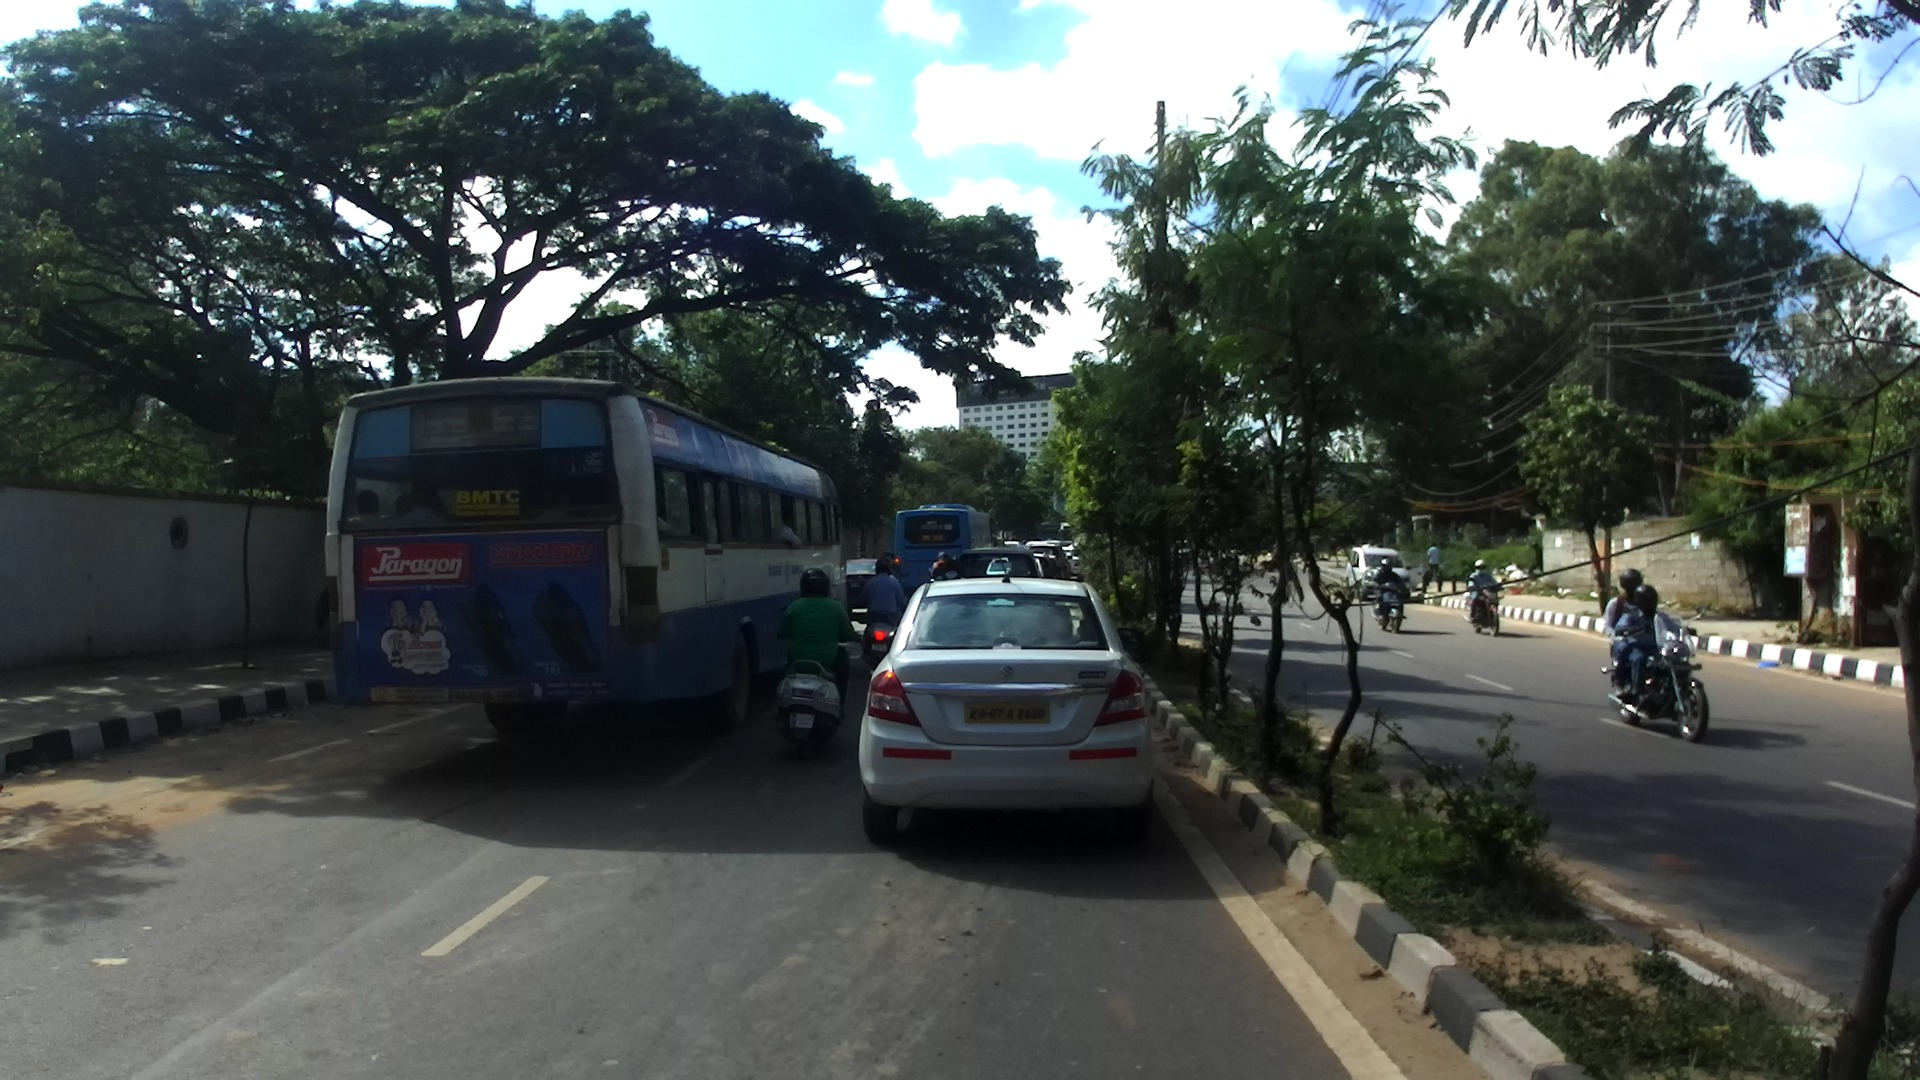bus: (322, 375, 847, 734), (895, 501, 995, 600), (1037, 520, 1060, 540), (1059, 520, 1076, 542)
car: (856, 553, 1159, 842), (1346, 543, 1412, 601), (953, 547, 1043, 580), (841, 555, 888, 615), (1025, 541, 1072, 582), (1061, 546, 1086, 583), (1031, 552, 1056, 580), (1005, 539, 1025, 549), (1062, 539, 1076, 548), (1026, 537, 1045, 542)
motorcycle: (1599, 604, 1710, 744), (773, 620, 865, 756), (860, 599, 911, 672), (1466, 576, 1510, 638), (1371, 577, 1408, 635)
person: (1425, 539, 1443, 583)
rider: (775, 566, 858, 717), (1614, 583, 1697, 701), (1601, 567, 1648, 701), (856, 556, 909, 663), (1371, 555, 1412, 615), (1466, 558, 1501, 619), (933, 555, 969, 582), (929, 551, 950, 577), (881, 550, 890, 561), (889, 552, 896, 561)
truck: (1061, 529, 1075, 541)
